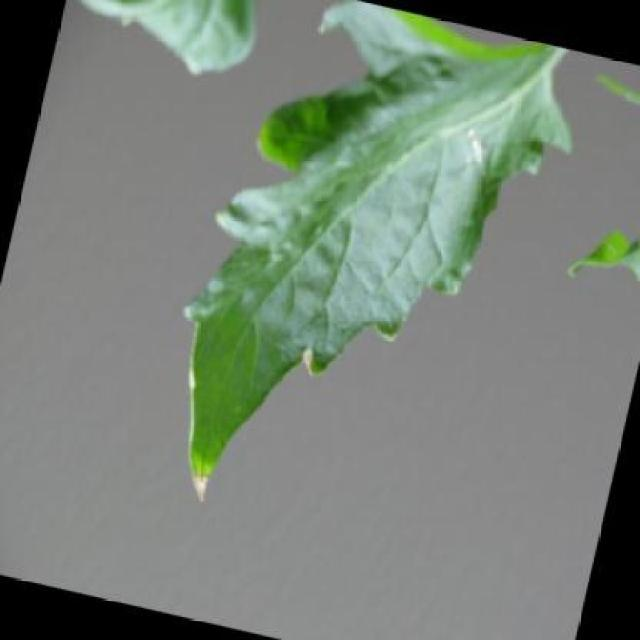Healthy Leaf: (142, 0, 596, 577)
